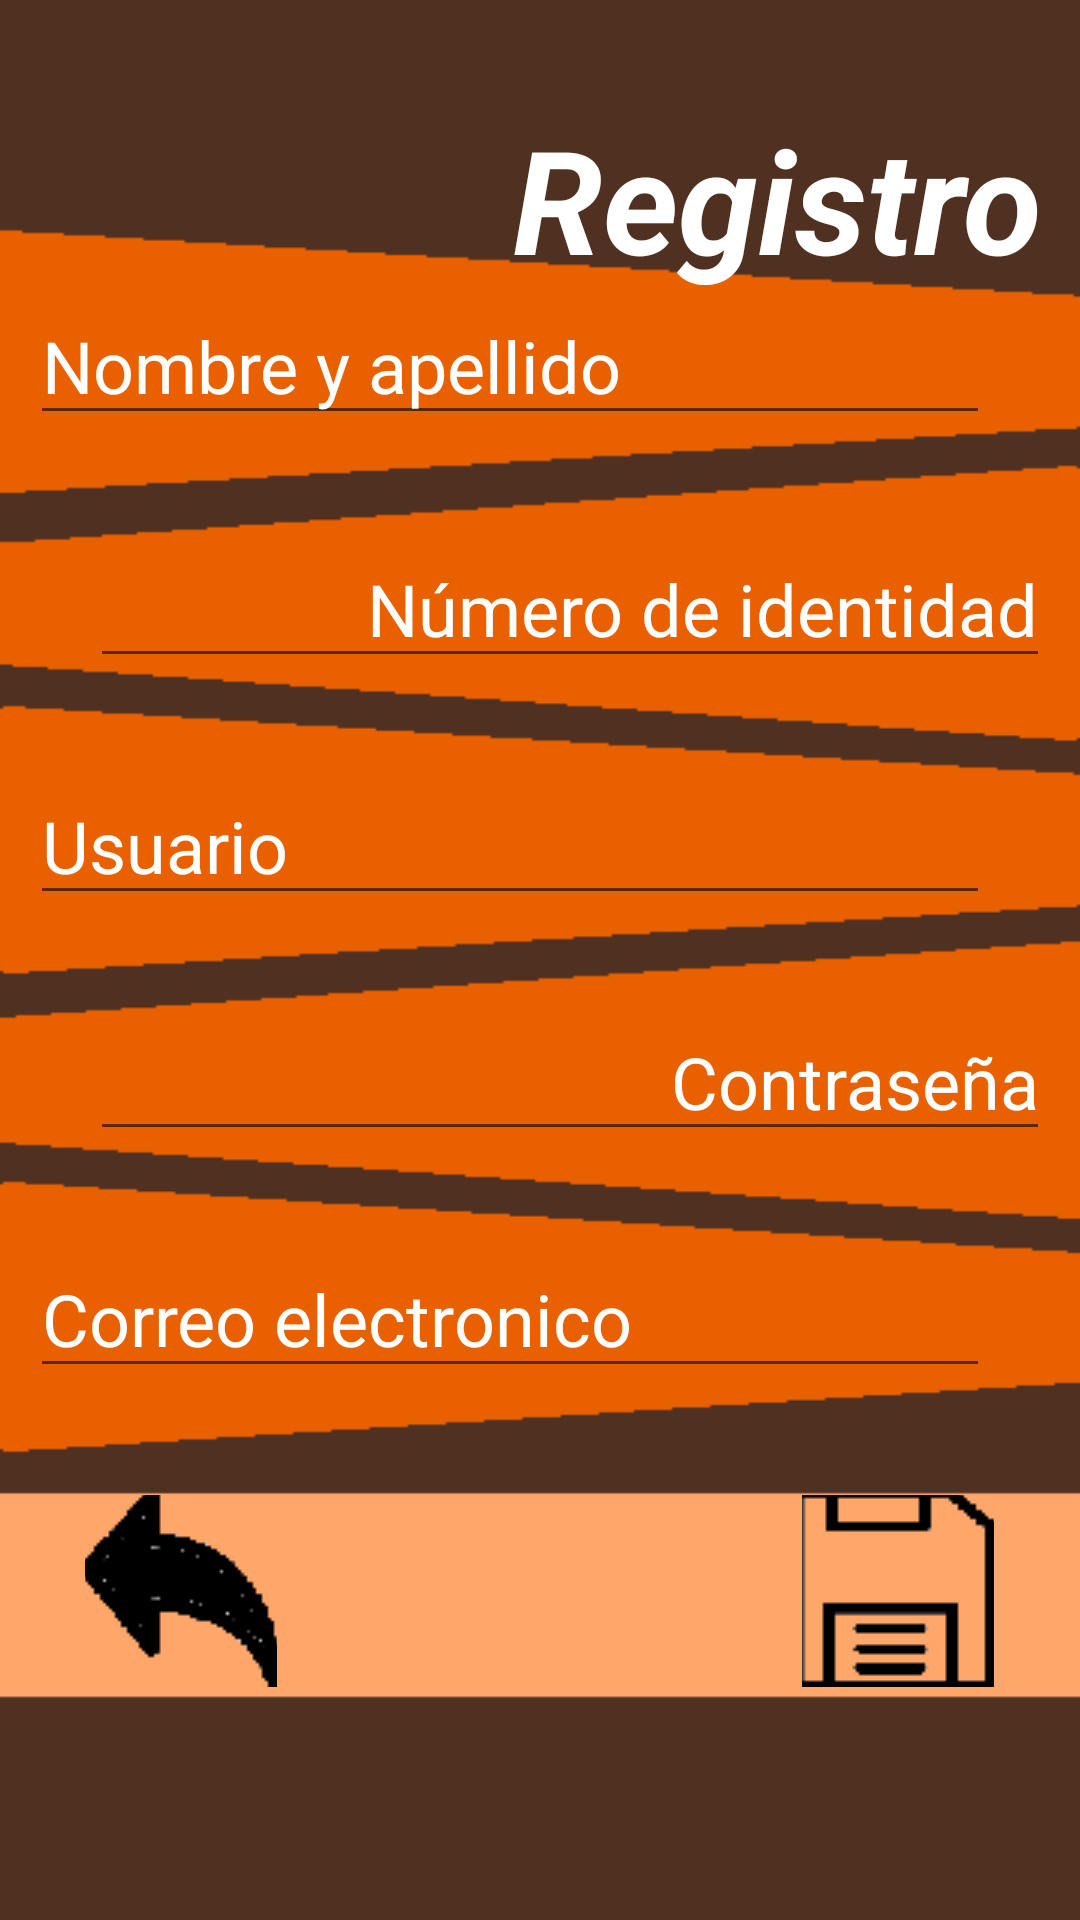

Locate icon controls on the screen. Image size 1080x1920, boxes as {"x1": x1, "y1": y1, "x2": x2, "y2": y2}.
atras: {"x1": 85, "y1": 1495, "x2": 277, "y2": 1687}
guardar: {"x1": 802, "y1": 1495, "x2": 994, "y2": 1687}
